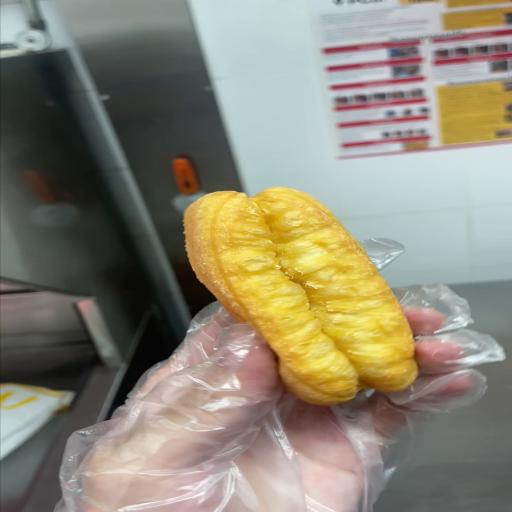brand_golden_good: (184, 187, 417, 405)
